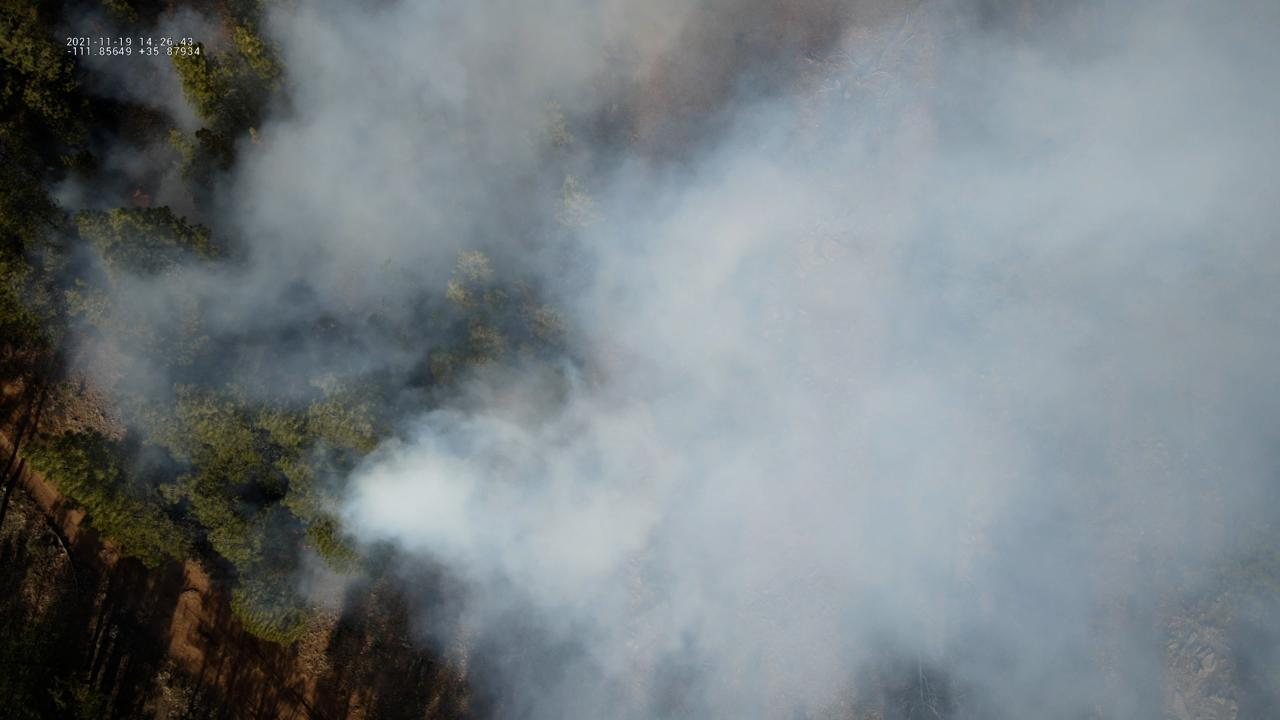fire: (124, 184, 153, 210)
smoke: (13, 0, 1280, 720)
